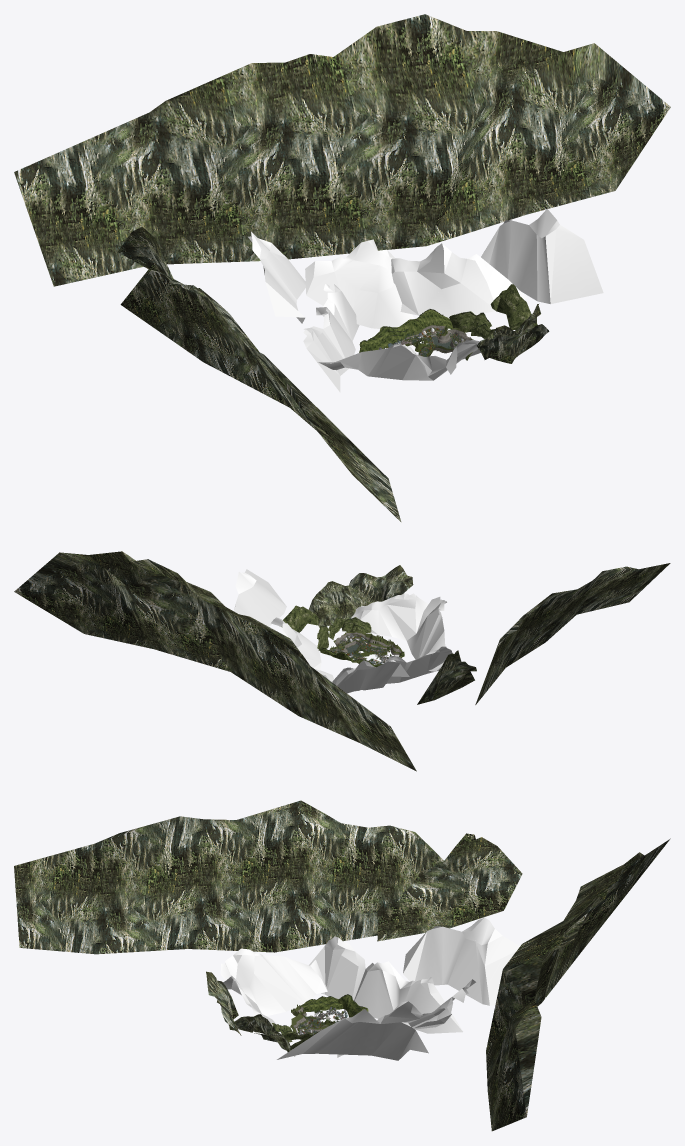
The model's file is bushido-peak.glb.
3 views of the same model, one above another, from view 1: azimuth 30°, elevation 25°; view 2: azimuth 150°, elevation 25°; view 3: azimuth 270°, elevation 25° (orthographic). The views are drawn at different scales.
Parts seen in each view (by area): view 1: backdrop_grp_009_mdl_001_sub_000_material_100_0, backdrop_grp_006_mdl_000_sub_002_material_097_0, backdrop_grp_002_mdl_000_sub_000_material_094_0, backdrop_grp_000_mdl_000_sub_000_material_092_0; view 2: backdrop_grp_009_mdl_001_sub_000_material_100_0, backdrop_grp_006_mdl_000_sub_002_material_097_0, backdrop_grp_002_mdl_000_sub_000_material_094_0, backdrop_grp_004_mdl_004_sub_000_material_076_0, backdrop_grp_004_mdl_006_sub_000_material_096_0; view 3: backdrop_grp_009_mdl_001_sub_000_material_100_0, backdrop_grp_006_mdl_000_sub_002_material_097_0, backdrop_grp_000_mdl_000_sub_000_material_092_0.
Part boxes in pixels (box(x1,y1,x2,y2)): backdrop_grp_009_mdl_001_sub_000_material_100_0: box(14, 14, 670, 522); backdrop_grp_006_mdl_000_sub_002_material_097_0: box(248, 208, 603, 392); backdrop_grp_002_mdl_000_sub_000_material_094_0: box(449, 284, 537, 360); backdrop_grp_000_mdl_000_sub_000_material_092_0: box(359, 310, 452, 352); backdrop_grp_009_mdl_001_sub_000_material_100_0: box(14, 551, 670, 771); backdrop_grp_006_mdl_000_sub_002_material_097_0: box(234, 569, 452, 693); backdrop_grp_002_mdl_000_sub_000_material_094_0: box(281, 605, 371, 649); backdrop_grp_004_mdl_004_sub_000_material_076_0: box(329, 632, 401, 655); backdrop_grp_004_mdl_006_sub_000_material_096_0: box(330, 630, 402, 658); backdrop_grp_009_mdl_001_sub_000_material_100_0: box(14, 800, 670, 1131); backdrop_grp_006_mdl_000_sub_002_material_097_0: box(220, 917, 545, 1060); backdrop_grp_000_mdl_000_sub_000_material_092_0: box(301, 995, 368, 1017).
Size of the model in its own units: 11416 by 3822 by 11768.
Materials: 100 (99 with a texture image).
